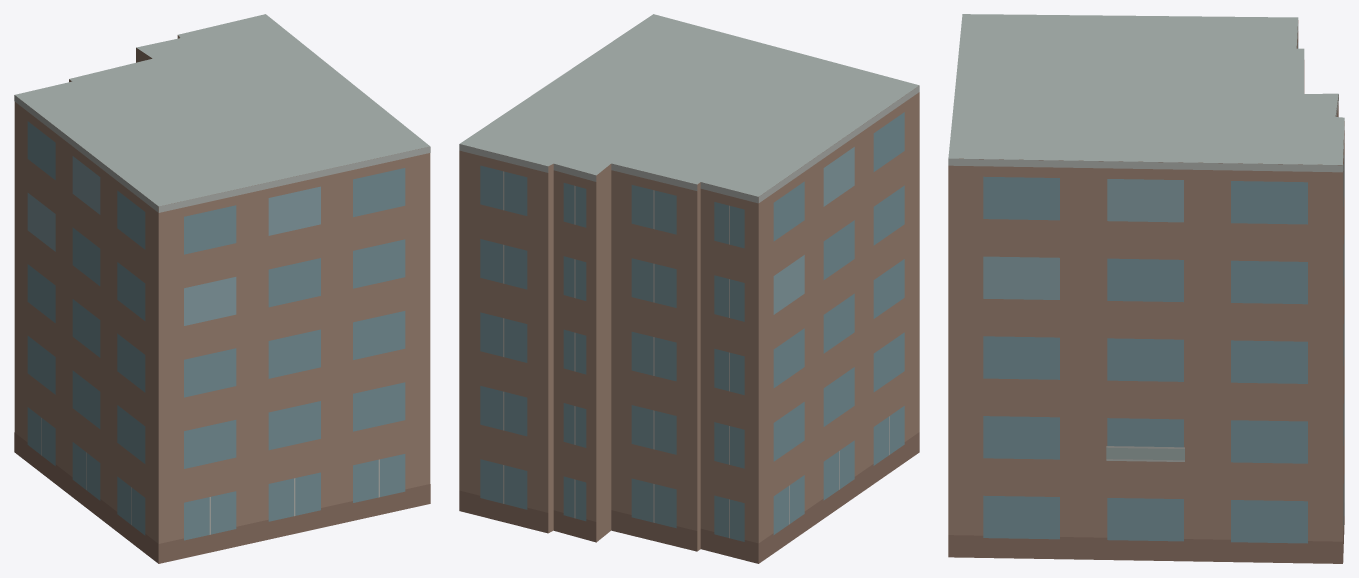
File: survey-upis-32890275.glb
3 renders of one model, left to right at view 1: azimuth 30°, elevation 25°; view 2: azimuth 150°, elevation 25°; view 3: azimuth 270°, elevation 25°, orthographic. The views are drawn at different scales.
Parts seen in each view (by area): view 1: survey-upis-32890275.tmp; view 2: survey-upis-32890275.tmp; view 3: survey-upis-32890275.tmp.
Boxes of the visible parts, x1=… form: survey-upis-32890275.tmp: x1=14, y1=14, x2=430, y2=563; survey-upis-32890275.tmp: x1=459, y1=14, x2=919, y2=563; survey-upis-32890275.tmp: x1=948, y1=14, x2=1344, y2=563.
Size of the model in its own units: 10.98 by 13.5 by 12.17.
